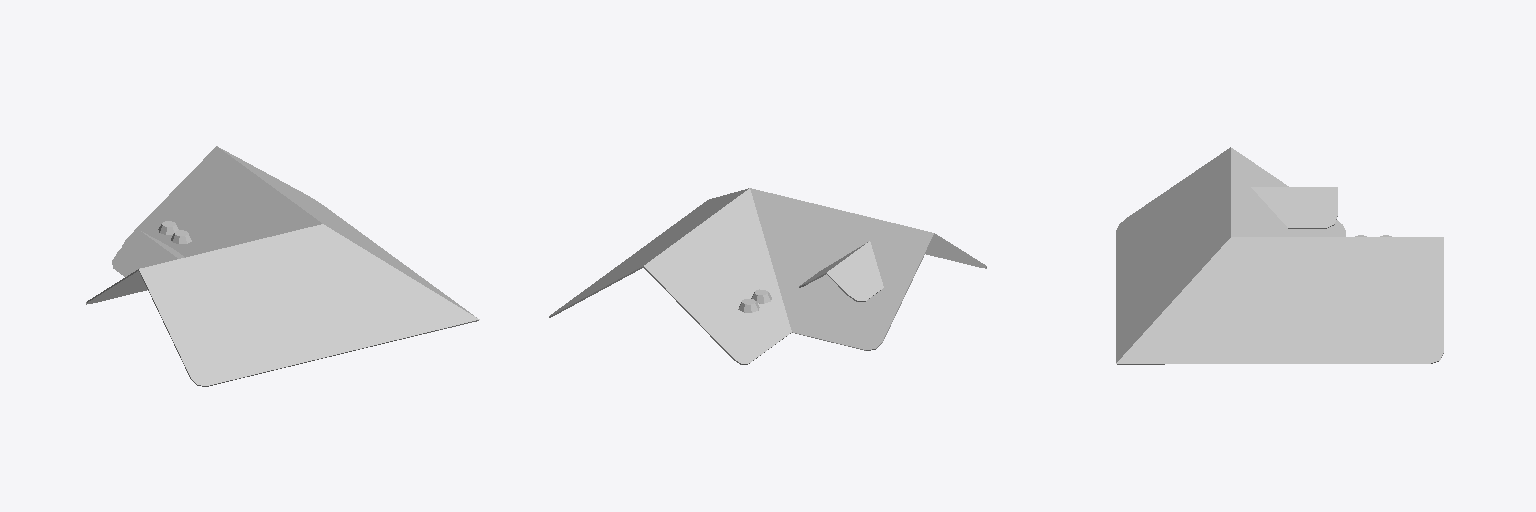
Rendered from building-type-m_roof.obj.
3 views of the same model, side by side, from view 1: azimuth 30°, elevation 25°; view 2: azimuth 150°, elevation 25°; view 3: azimuth 270°, elevation 25° (orthographic).
Visible parts, largest first — view 1: building-type-m.001; view 2: building-type-m.001; view 3: building-type-m.001.
Boxes of the visible parts, box(x1,y1,x2,y2) form: building-type-m.001: box(86, 146, 479, 386); building-type-m.001: box(549, 188, 986, 364); building-type-m.001: box(1116, 147, 1443, 364).
Bounding box in the file's own units: 1.31 × 0.3494 × 1.31.